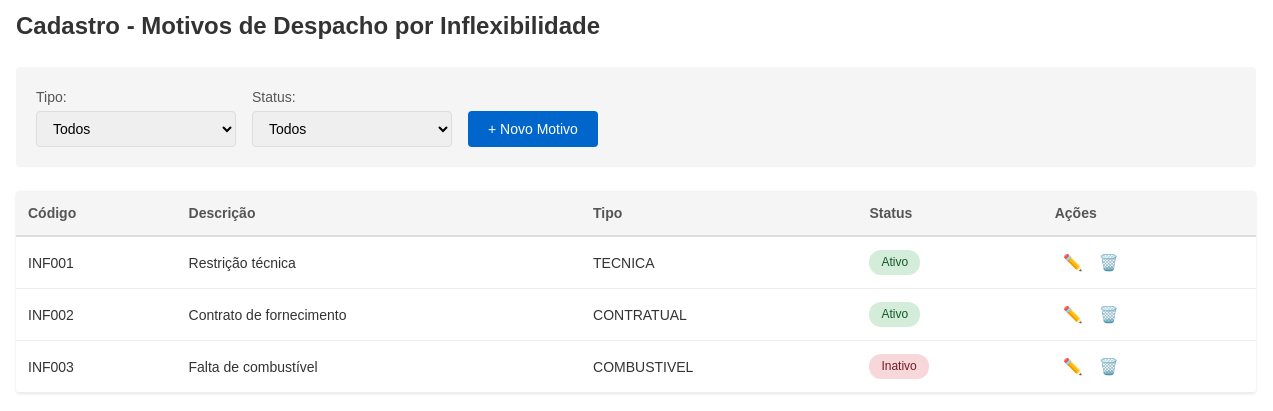
Test: InflexibilityDispatchReason Component › Tabela de Motivos › deve filtrar por status
Expected: the text "INF001" is shown, left=16, top=236, right=176, bottom=289
Select "Inativo" in the dropdown with test id "filter-ativo" at (352,129), box left=252, top=111, right=452, bottom=147
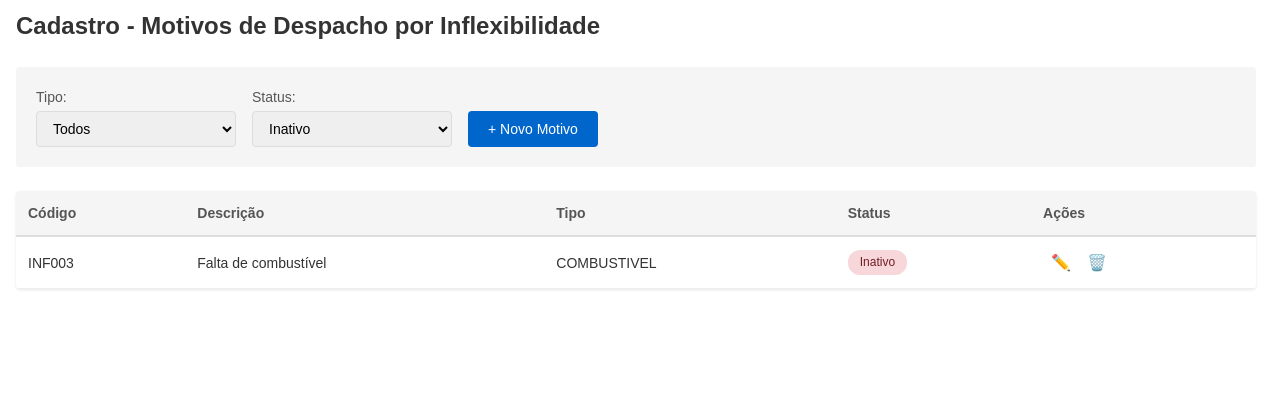
Expected: the text "INF003" is shown, left=16, top=236, right=185, bottom=289
Expected: the text "INF001" is gone
